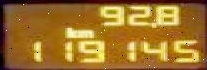-: (147, 20, 156, 27)
1: (27, 39, 42, 64), (122, 38, 136, 62), (58, 39, 71, 63)
2: (125, 4, 149, 25)
4: (138, 37, 165, 60)
5: (169, 38, 196, 62)
8: (154, 3, 180, 24)
9: (74, 38, 103, 62), (96, 2, 122, 25)
X: (62, 24, 76, 38), (76, 28, 94, 37)
